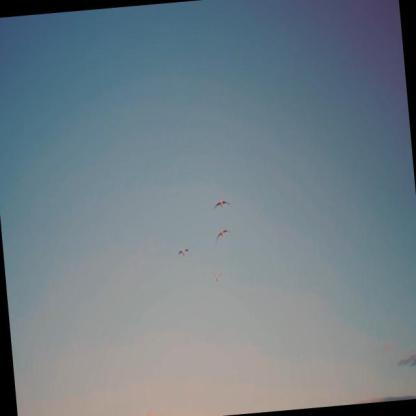bird: (215, 227, 232, 244), (212, 198, 231, 212), (210, 270, 225, 283), (177, 247, 190, 259)
